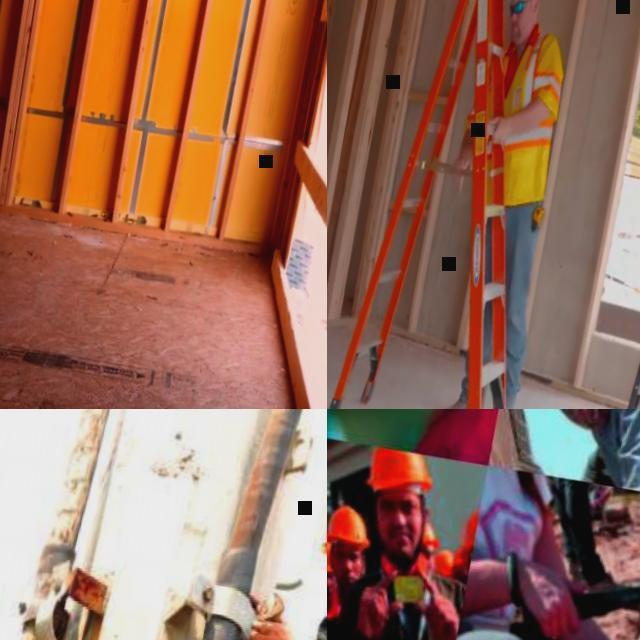helmet: (360, 440, 440, 498), (327, 502, 383, 548), (459, 507, 483, 552), (432, 547, 462, 575), (327, 534, 341, 574), (423, 522, 440, 552)
no_mask: (376, 519, 422, 561), (510, 9, 536, 44), (336, 568, 362, 590), (327, 584, 338, 602)
no_vest: (461, 478, 562, 633), (339, 560, 468, 640), (327, 596, 345, 640)
person: (430, 0, 599, 409), (425, 464, 640, 640), (327, 445, 486, 640), (182, 452, 327, 640), (327, 486, 441, 640), (327, 501, 378, 604), (327, 537, 360, 640), (446, 505, 478, 590), (431, 542, 456, 582)
vest: (462, 15, 574, 163)
